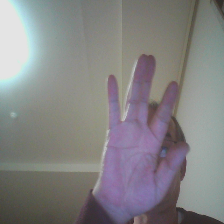hand: (99, 48, 192, 218)
